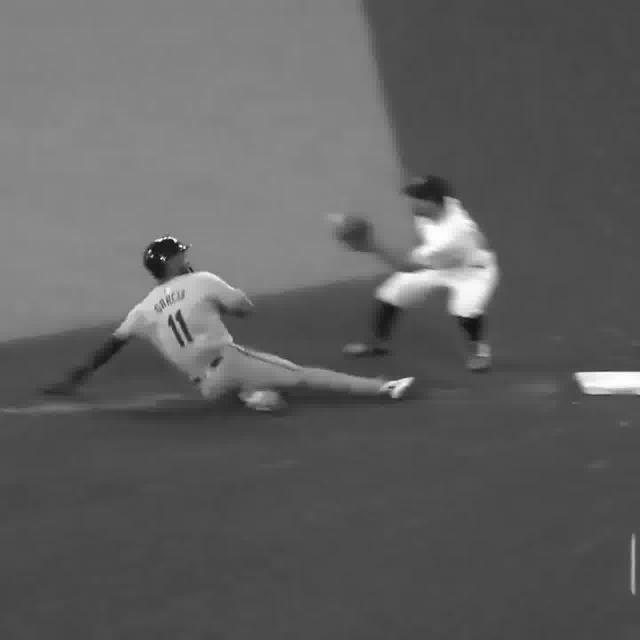base: (575, 369, 640, 399)
baseball: (329, 212, 348, 222)
baseball_glove: (338, 214, 374, 250)
shoe: (347, 338, 392, 360), (468, 342, 492, 376), (381, 375, 416, 398), (245, 389, 285, 406)
